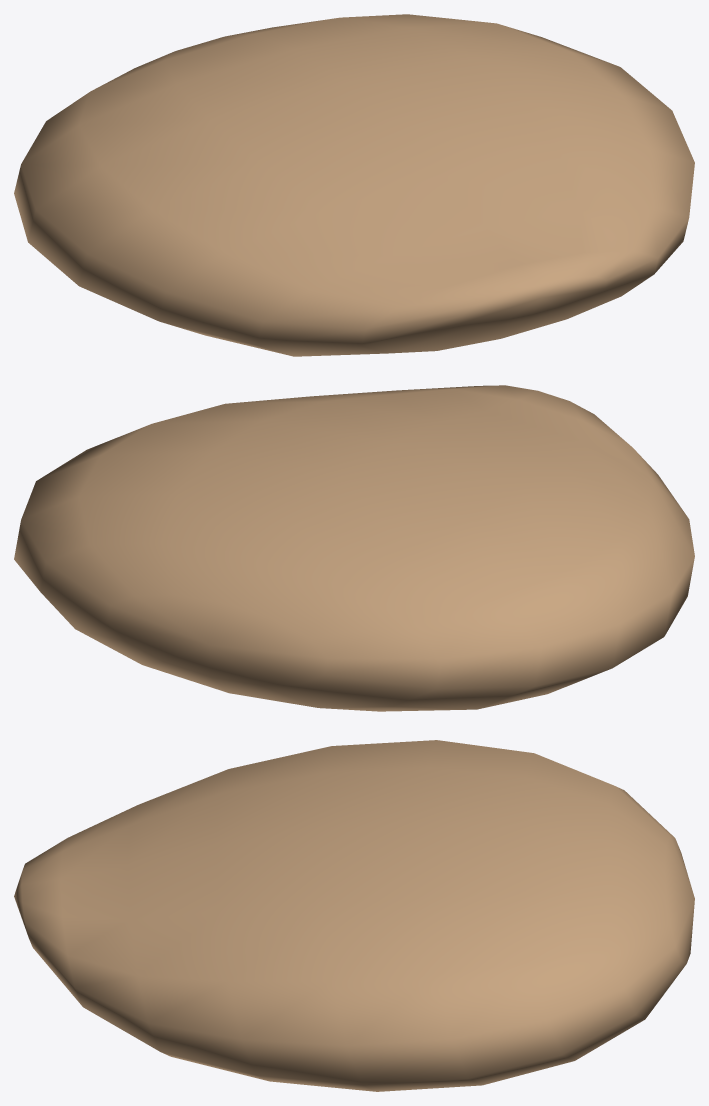
The model's file is muzzle-bill-duck.glb.
3 views of the same model, one above another, from view 1: azimuth 30°, elevation 25°; view 2: azimuth 150°, elevation 25°; view 3: azimuth 270°, elevation 25° (orthographic). The views are drawn at different scales.
Visible parts, largest first — view 1: muzzle-bill-duck; view 2: muzzle-bill-duck; view 3: muzzle-bill-duck.
Part boxes in pixels (box(x1,y1,x2,y2)): muzzle-bill-duck: box(14, 14, 694, 356); muzzle-bill-duck: box(14, 385, 694, 711); muzzle-bill-duck: box(14, 740, 694, 1091).
Bounding box in the file's own units: 0.117 × 0.0343 × 0.115.
